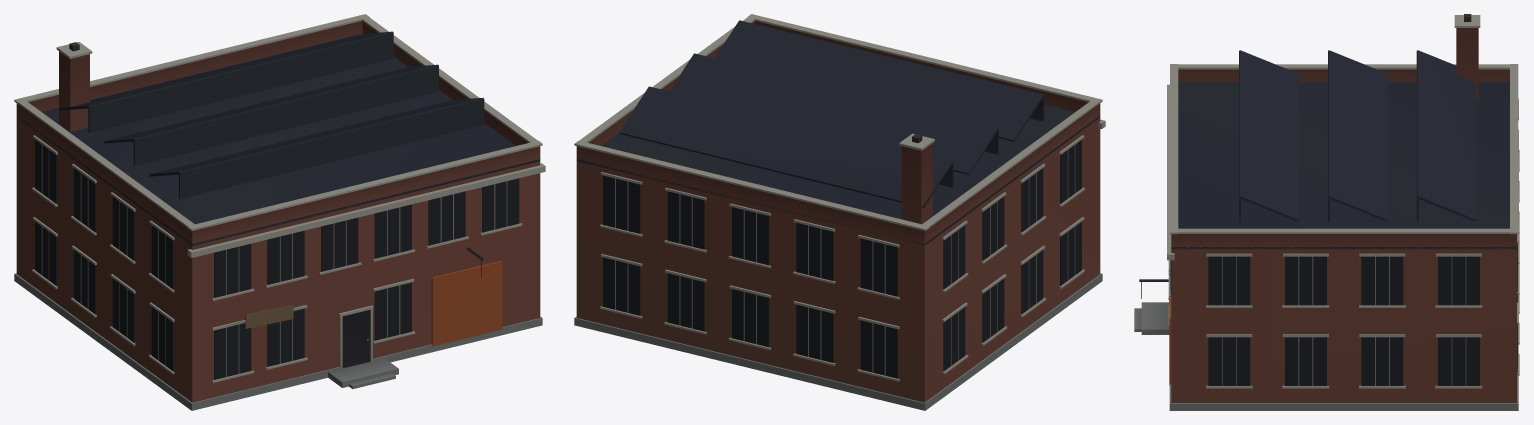
Rendered from shell_rotrow_loft.glb.
The picture shows the model from 3 angles, left to right: view 1: azimuth 30°, elevation 25°; view 2: azimuth 150°, elevation 25°; view 3: azimuth 270°, elevation 25°; orthographic projection.
Parts seen in each view (by area): view 1: shell_rotrow_loft; view 2: shell_rotrow_loft; view 3: shell_rotrow_loft.
Part boxes in pixels (bbox=[...]): shell_rotrow_loft: bbox=[14, 14, 545, 410]; shell_rotrow_loft: bbox=[574, 14, 1105, 410]; shell_rotrow_loft: bbox=[1134, 14, 1519, 410].
Size of the model in its own units: 16.3 by 10.88 by 15.61.
